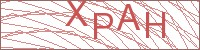A: (115, 3, 141, 31)
H: (144, 11, 167, 39)
P: (93, 12, 114, 41)
X: (66, 1, 89, 27)
